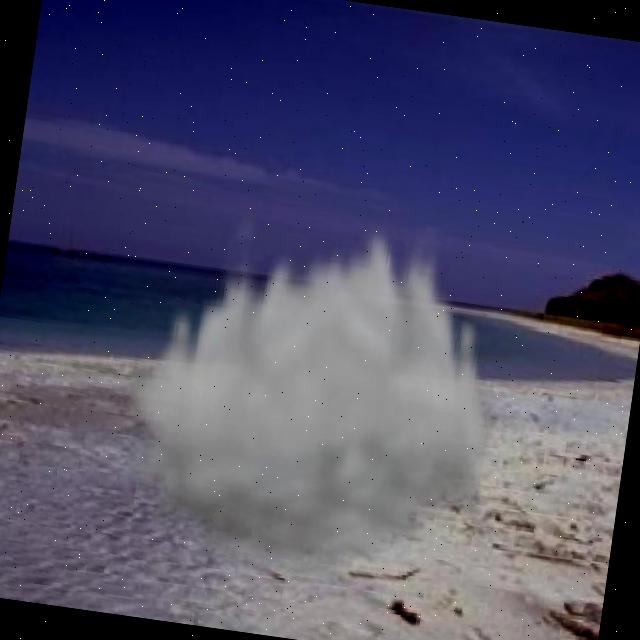smoke: (102, 195, 535, 586)
